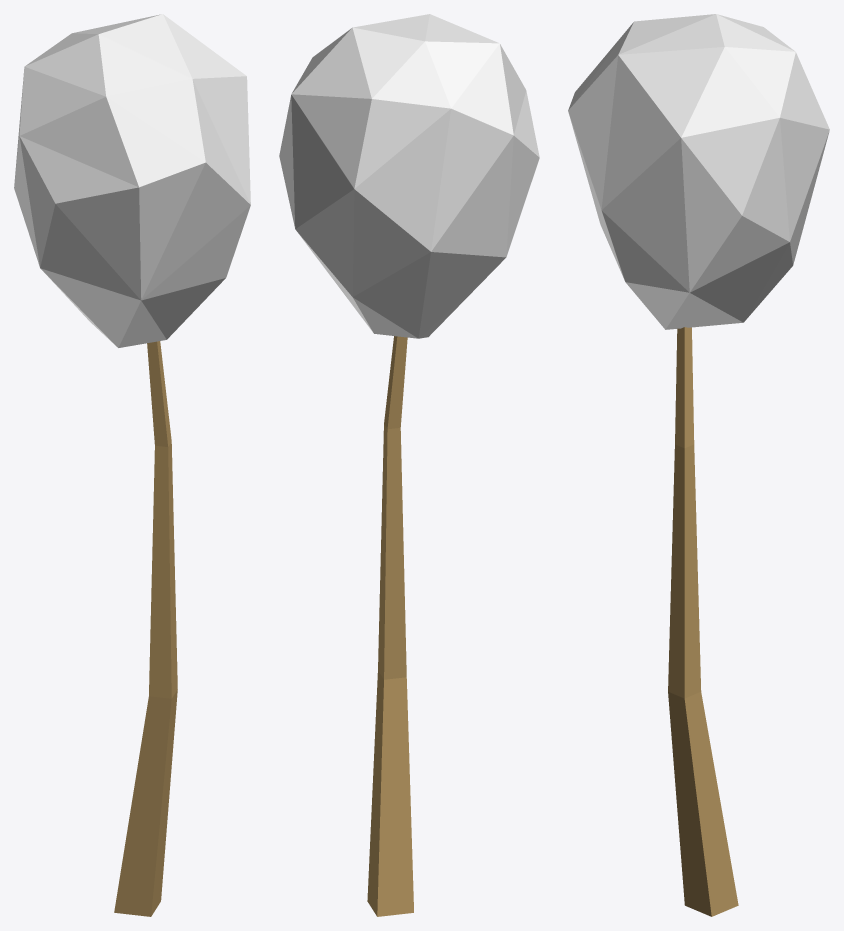
File: Simple_Tree_s_Snow_BT_03.fbx
3 views of the same model, side by side, from view 1: azimuth 30°, elevation 25°; view 2: azimuth 150°, elevation 25°; view 3: azimuth 270°, elevation 25° (orthographic).
Visible parts, largest first — view 1: Simple_Tree_s_Snow_BT_03; view 2: Simple_Tree_s_Snow_BT_03; view 3: Simple_Tree_s_Snow_BT_03.
Boxes of the visible parts, x1=… form: Simple_Tree_s_Snow_BT_03: x1=14, y1=14, x2=250, y2=916; Simple_Tree_s_Snow_BT_03: x1=279, y1=14, x2=539, y2=916; Simple_Tree_s_Snow_BT_03: x1=568, y1=14, x2=829, y2=916.
Bounding box in the file's own units: 104 × 402 × 109.
